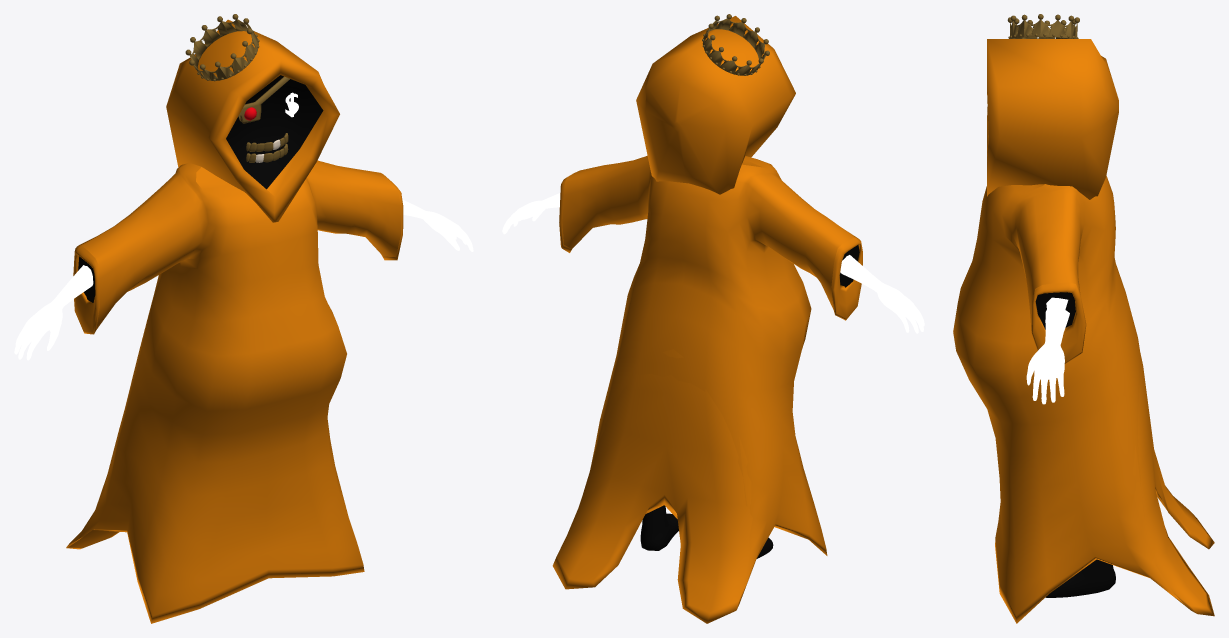
File: YellowPose 1.fbx
The picture shows the model from 3 angles, left to right: view 1: azimuth 30°, elevation 25°; view 2: azimuth 150°, elevation 25°; view 3: azimuth 270°, elevation 25°; orthographic projection. The views are drawn at different scales.
Parts seen in each view (by area): view 1: Plane.004; view 2: Plane.004; view 3: Plane.004.
Part boxes in pixels (box(x1,y1,x2,y2)): Plane.004: box(14, 14, 473, 623); Plane.004: box(502, 14, 924, 623); Plane.004: box(953, 14, 1214, 623).
Size of the model in its own units: 110 by 133 by 55.91.
